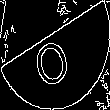O_NW: (32, 22, 78, 88)
